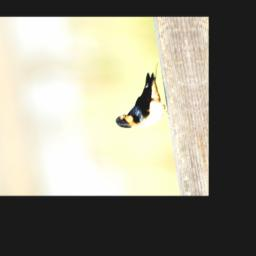Swallow: (106, 62, 173, 130)
